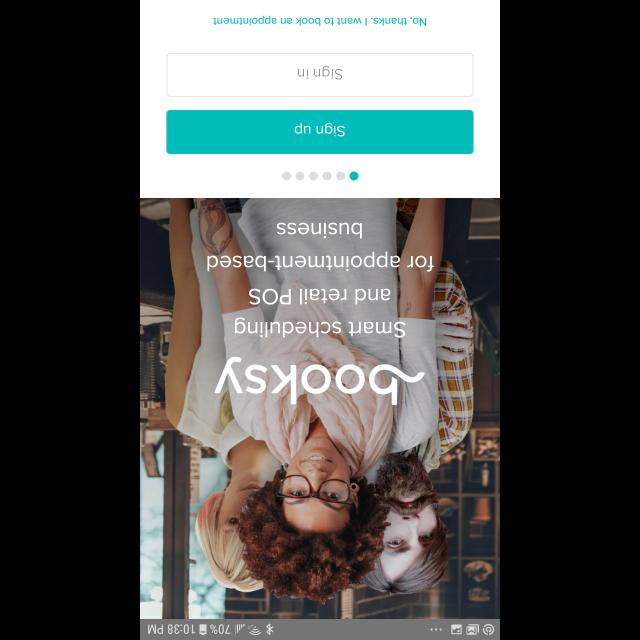image: (140, 197, 500, 618), (214, 356, 426, 406)
pageindicator: (282, 171, 358, 181)
text: (207, 222, 433, 338), (214, 16, 426, 26)
textbutton: (166, 110, 474, 154), (166, 53, 474, 97)
uppertaskbar: (140, 618, 500, 640)
